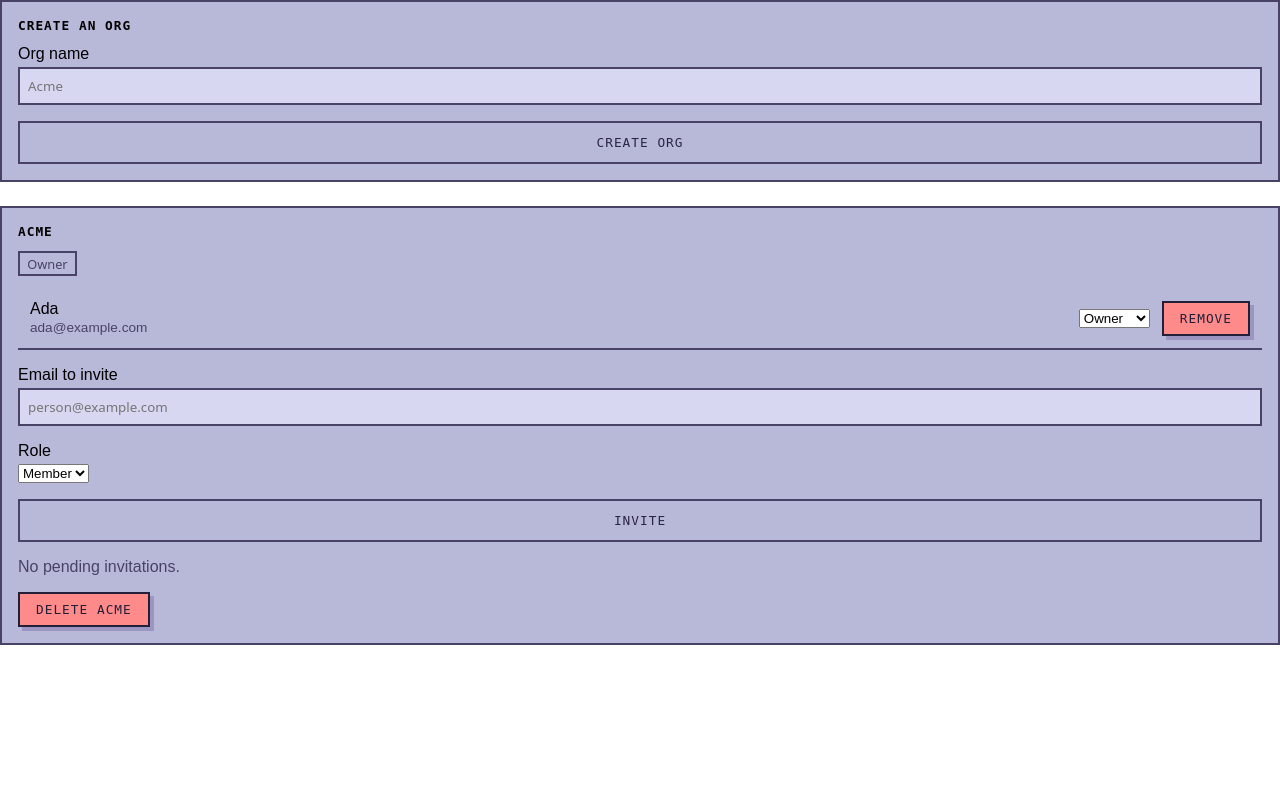
Test: OrgsPage › says what the confirmation will do
Click the button "Delete Acme" at (84, 610), box [18, 592, 150, 627]
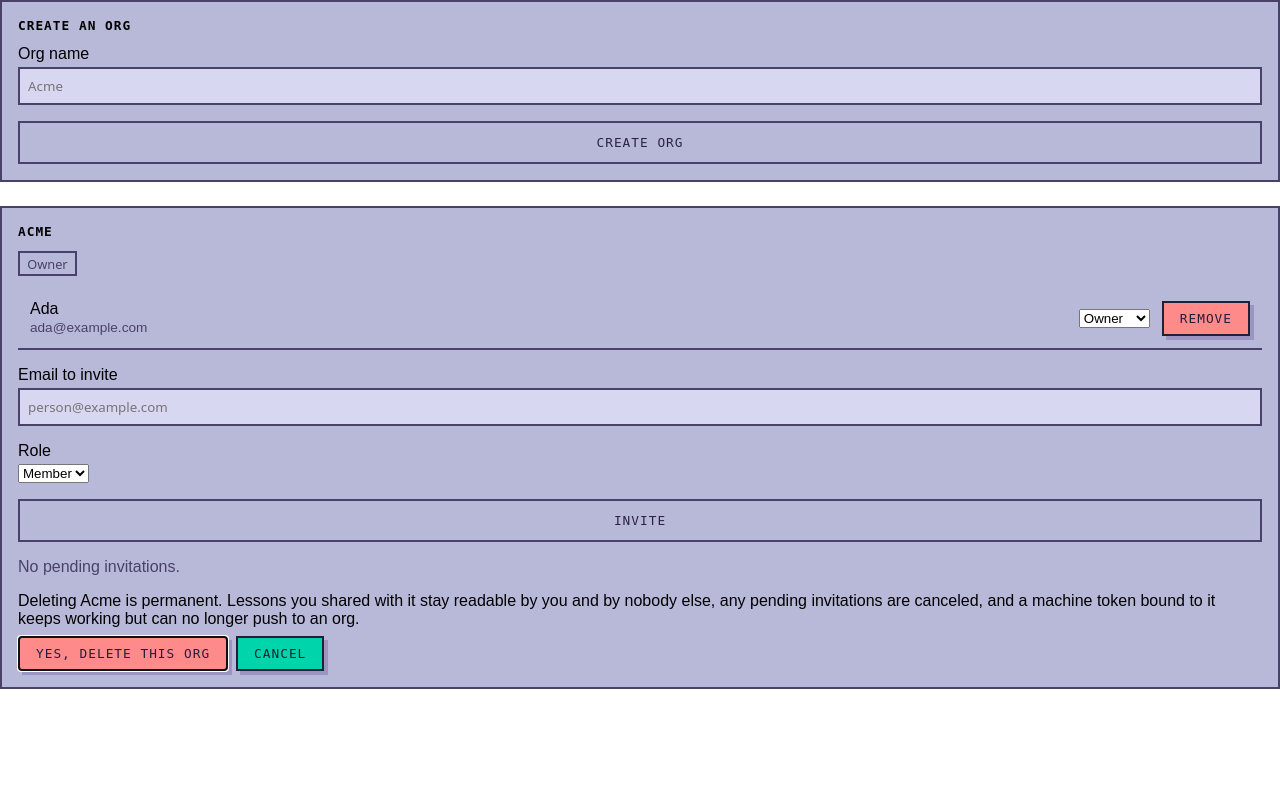
Result: the text "pending invitations are canceled" is shown at [18, 592, 1215, 627]
